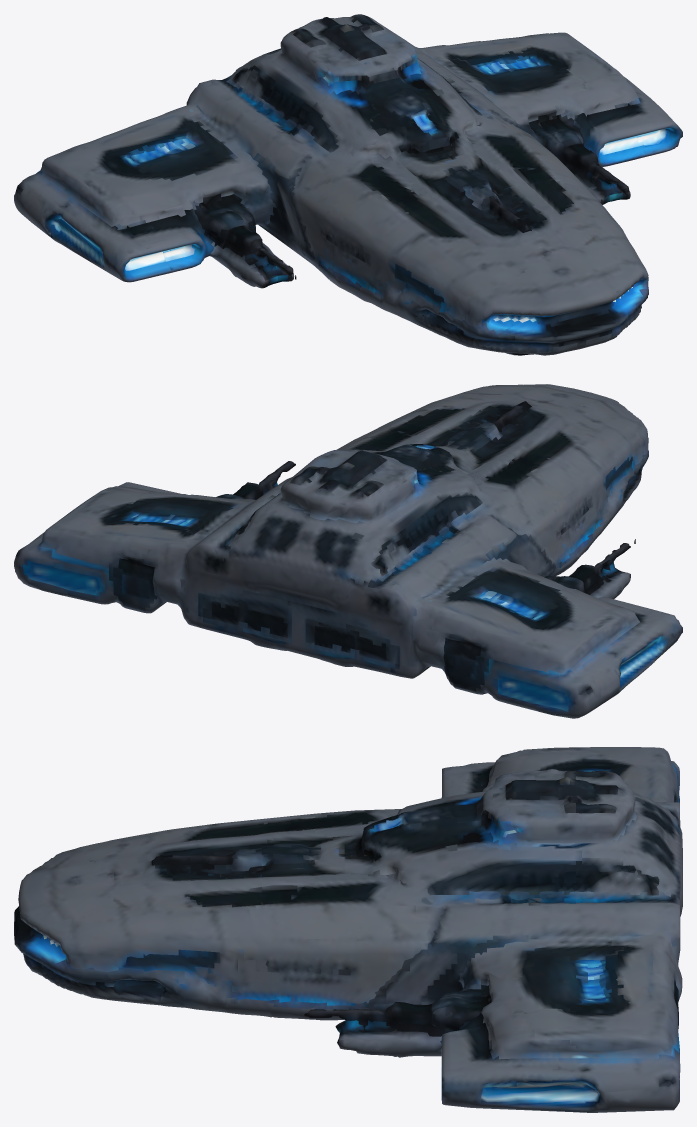
File: alliance_destroyer_lod1.glb
3 renders of one model, top to bottom at view 1: azimuth 30°, elevation 25°; view 2: azimuth 150°, elevation 25°; view 3: azimuth 270°, elevation 25°, orthographic. The views are drawn at different scales.
Parts seen in each view (by area): view 1: model; view 2: model; view 3: model.
Boxes of the visible parts, x1,y1,x2,y2 form: model: (14, 14, 682, 355); model: (14, 384, 682, 718); model: (14, 747, 682, 1112).
Bounding box in the file's own units: 1.9 × 0.5111 × 1.65.
1 material, 1 textured.
